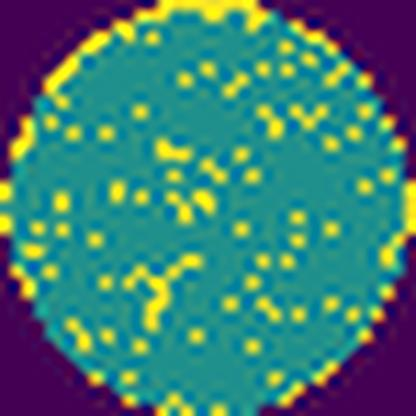Edge-Loc: (41, 0, 277, 108), (377, 184, 416, 271)
